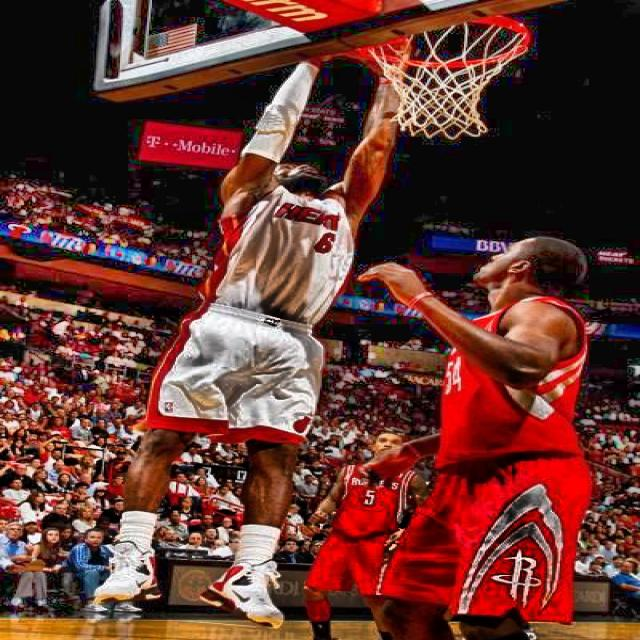rim: (356, 14, 530, 139)
